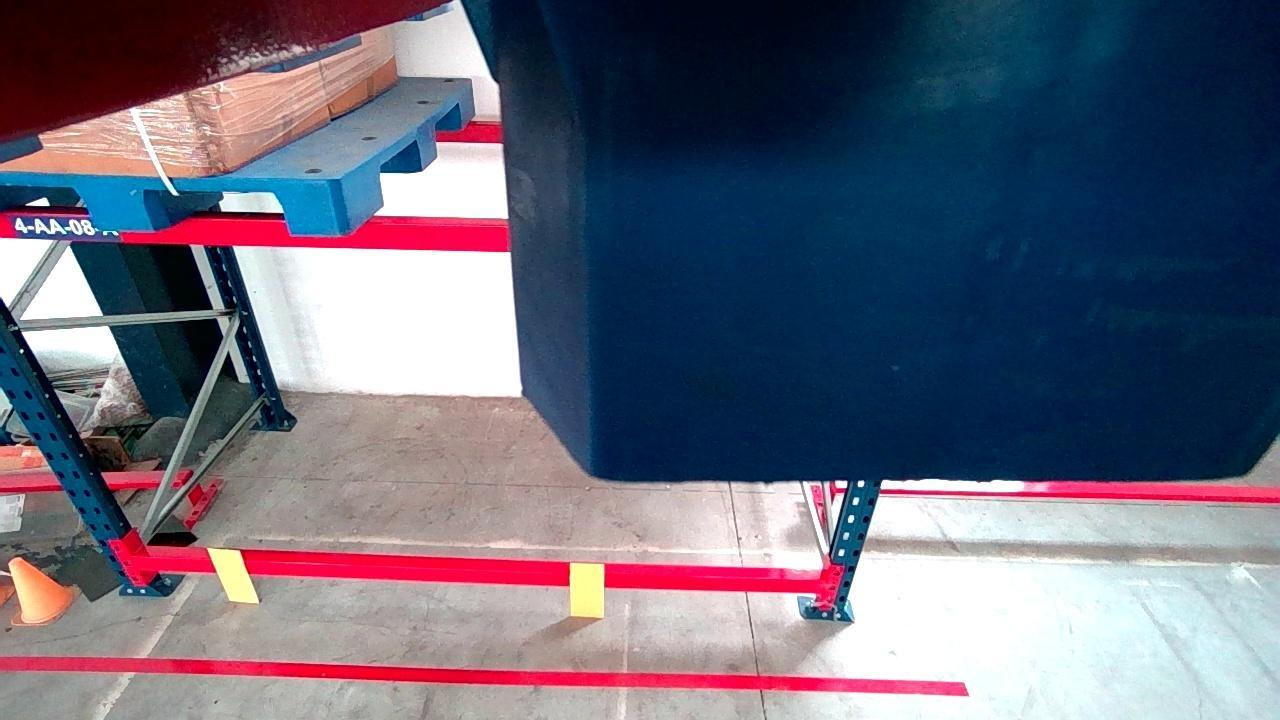h_rack: (135, 557, 823, 594), (1, 212, 510, 252)
orange_strip: (209, 550, 256, 601), (572, 563, 604, 618)
red_line: (1, 656, 967, 695)
small_pallet: (2, 174, 343, 235)
